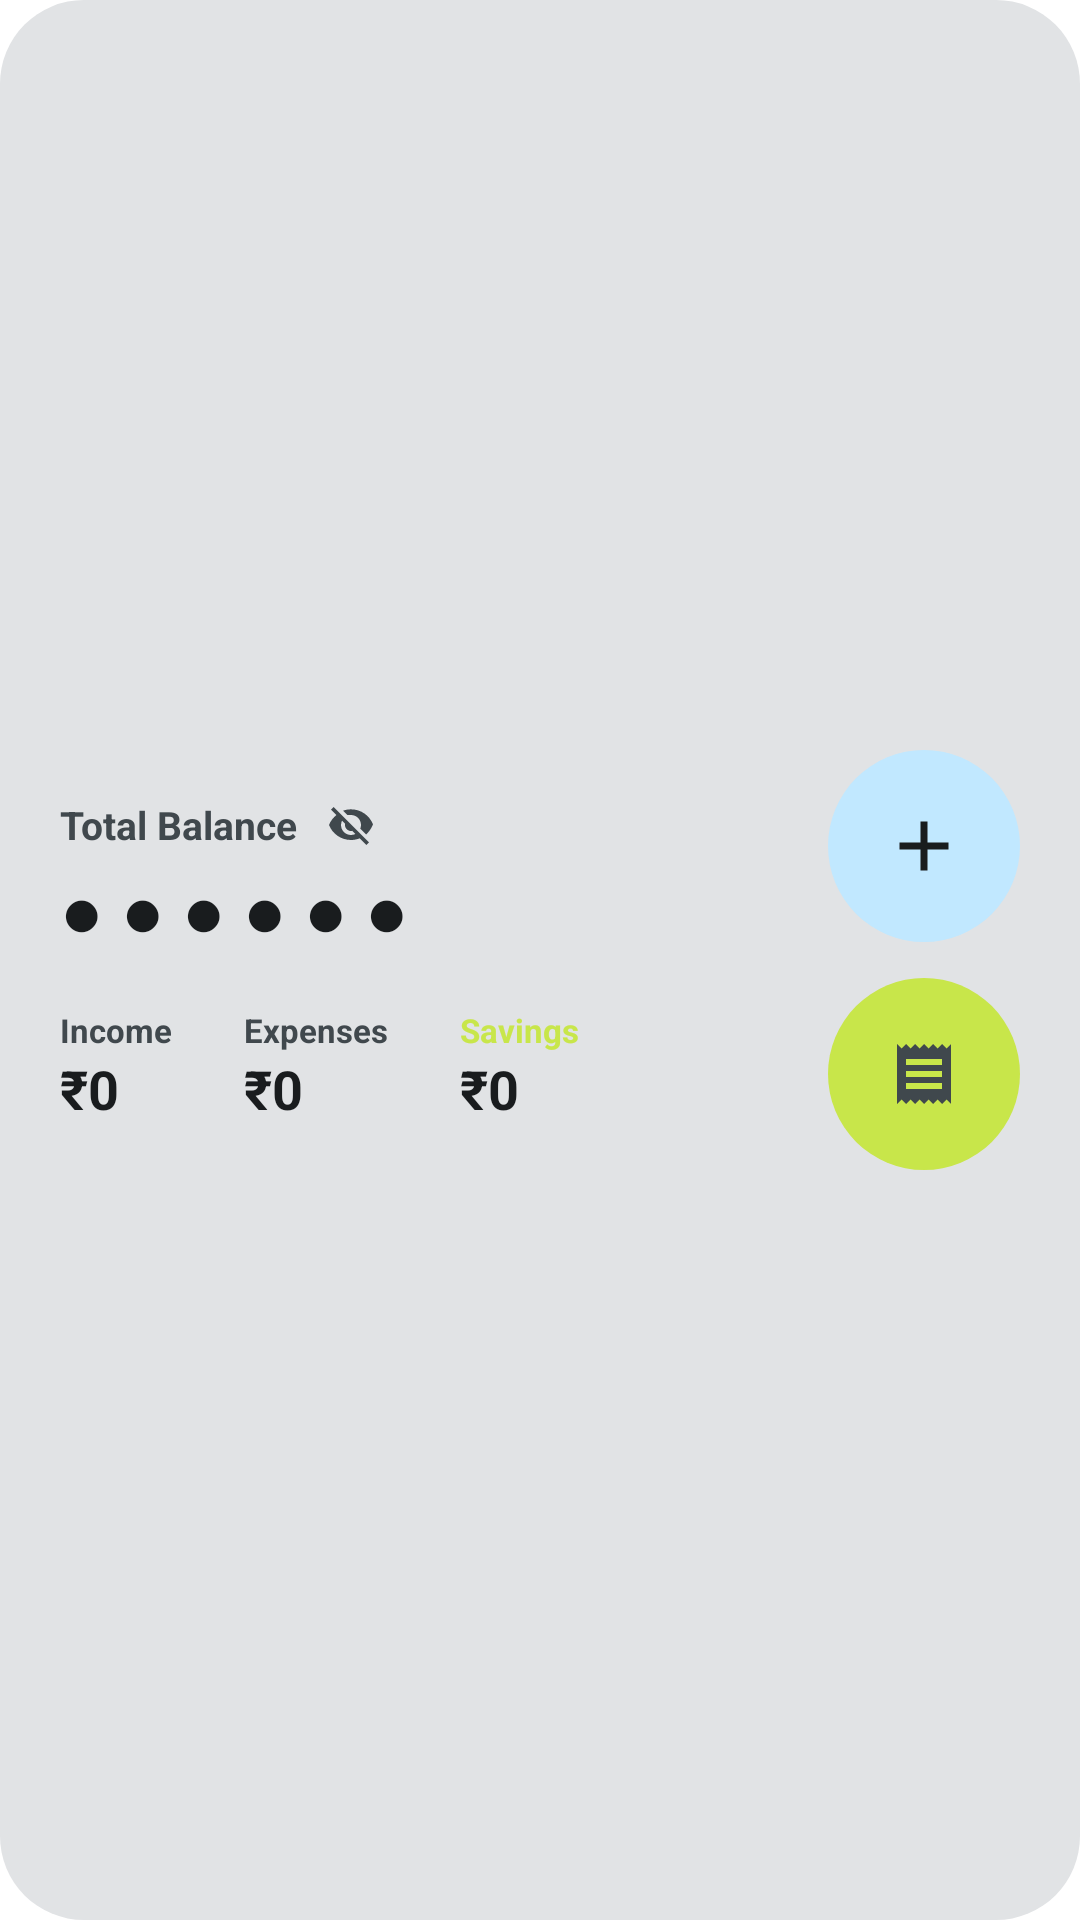

Icon click points for this 1080×1920 phone screenshot, format [x,y]:
eye hide: [351,826]
plus: [924,846]
receipt: [924,1074]
